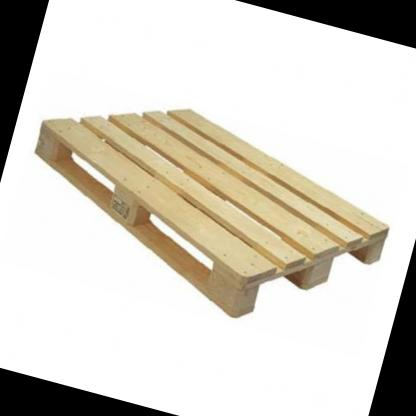BoxFace: (28, 105, 392, 325)
